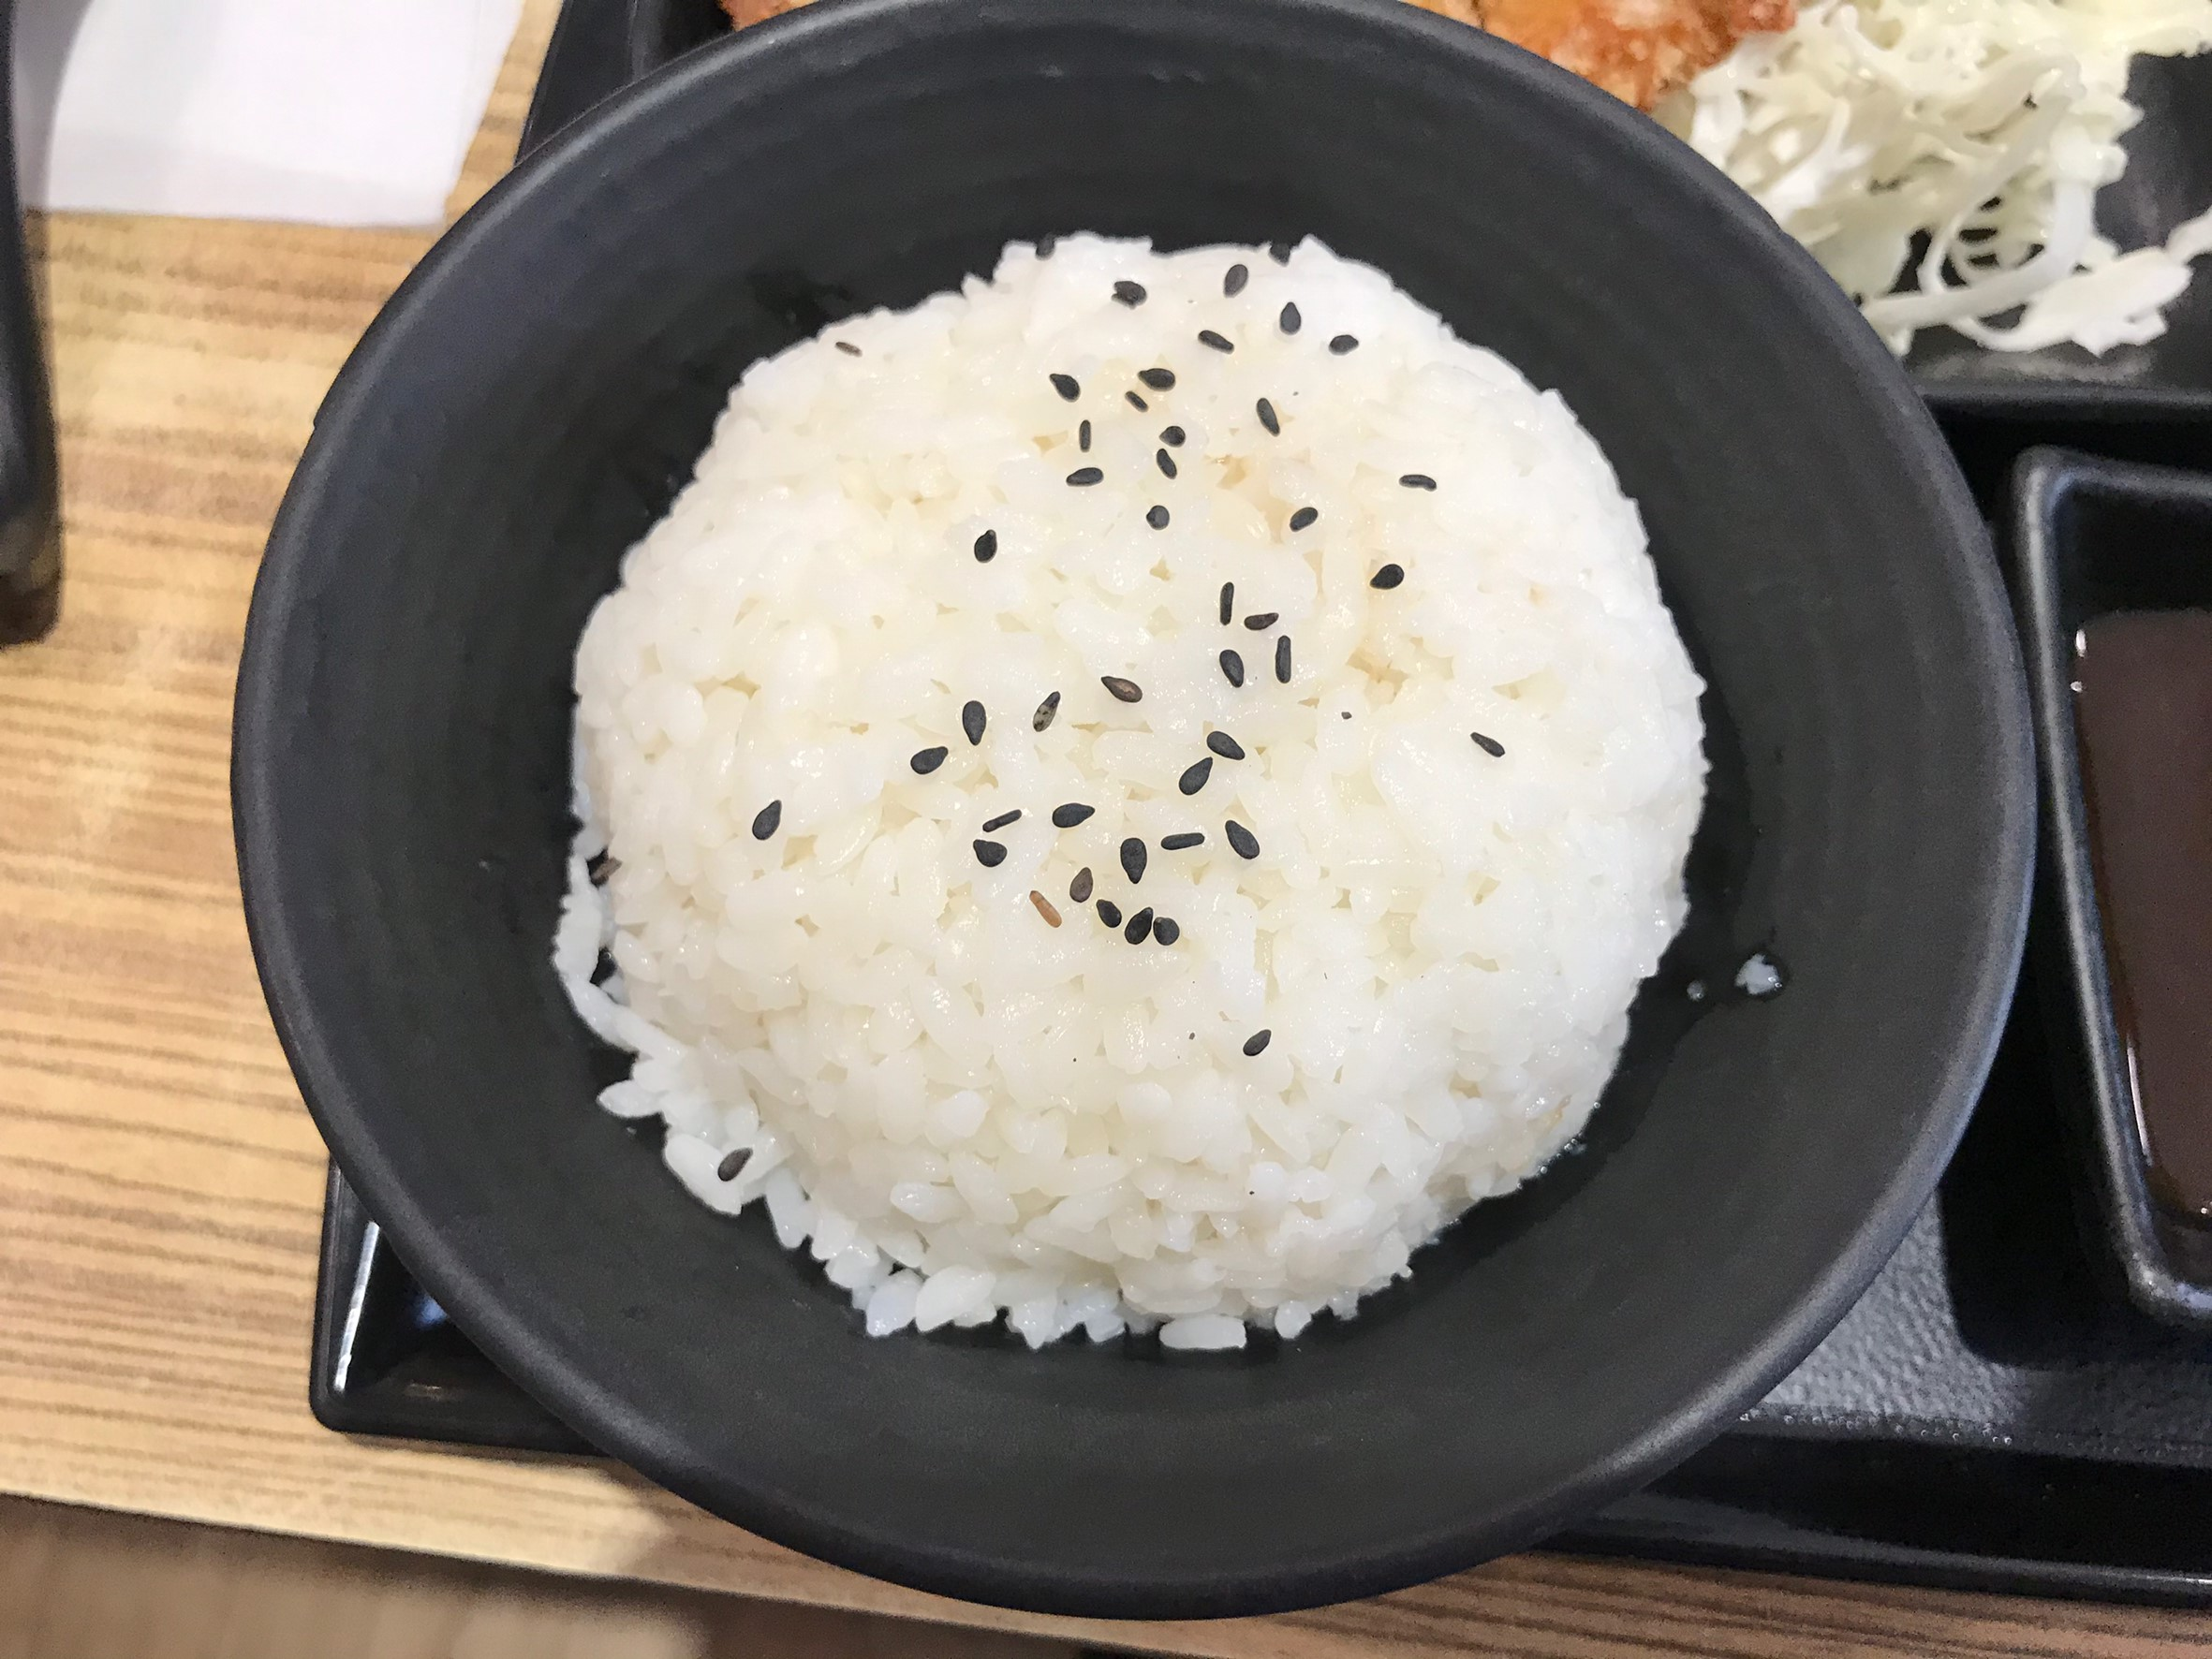rice: (535, 209, 1726, 1377)
